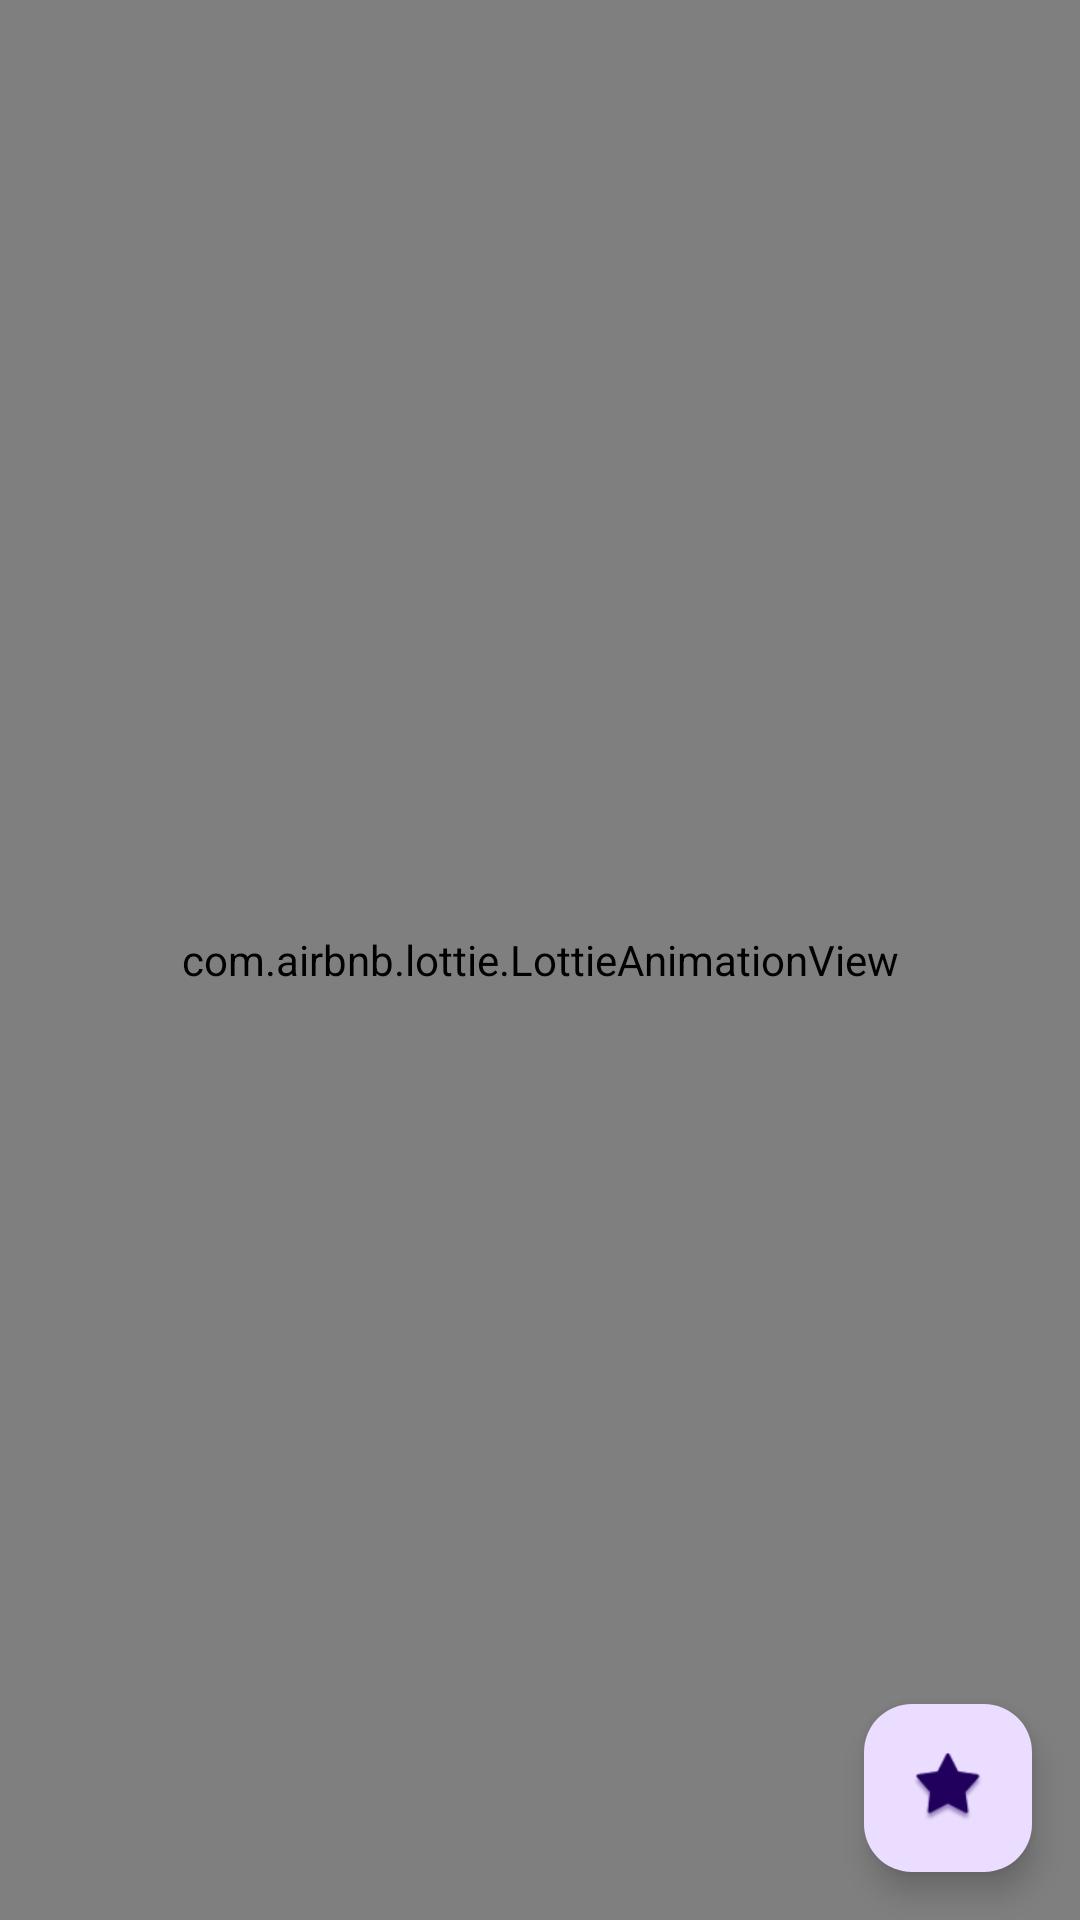

Named icons in this screenshot (1080 x 1920) and their bounding boxes, (x1, y1, x2, y2):
star on: (864, 1704, 1032, 1872)
